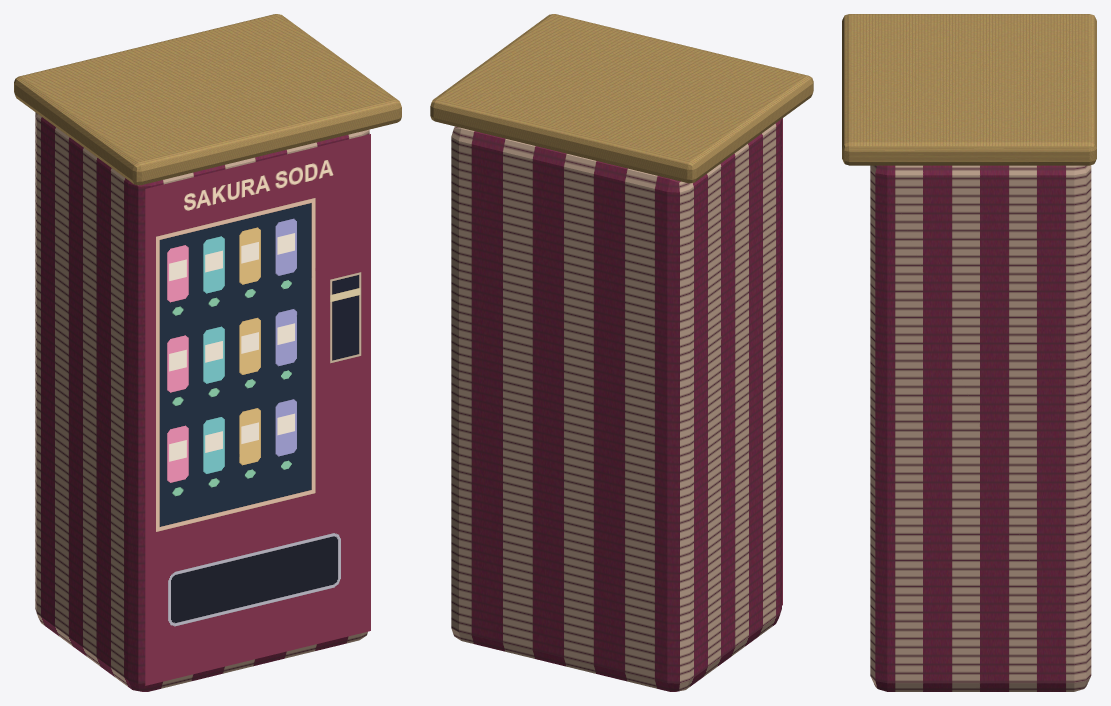
The model's file is vending-machine.raw.glb.
3 renders of one model, left to right at view 1: azimuth 30°, elevation 25°; view 2: azimuth 150°, elevation 25°; view 3: azimuth 270°, elevation 25°, orthographic. The views are drawn at different scales.
Parts seen in each view (by area): view 1: vending-machine; view 2: vending-machine; view 3: vending-machine.
Part boxes in pixels (bbox=[...]): vending-machine: bbox=[14, 14, 401, 691]; vending-machine: bbox=[430, 14, 813, 691]; vending-machine: bbox=[842, 14, 1096, 691].
Bounding box in the file's own units: 1.12 × 2.18 × 0.9.
Materials: 2 (2 with a texture image).
